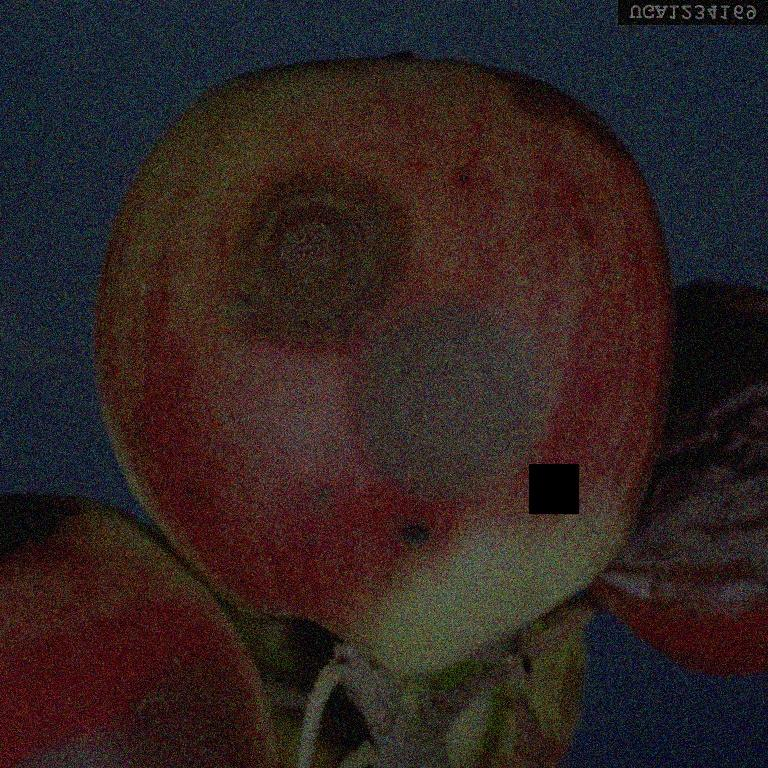rotten apple: (91, 51, 677, 662), (582, 273, 768, 692), (1, 495, 271, 767)
